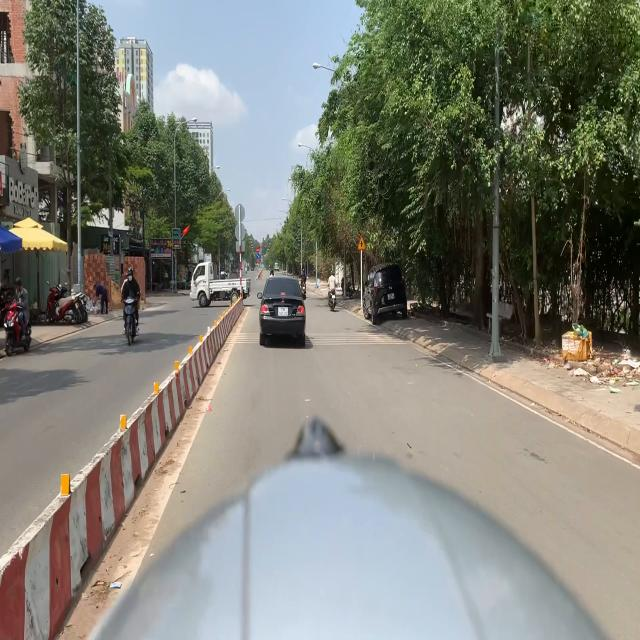Cam nguoc chieu: (256, 247, 260, 252)
Giao voi duong khong uu tien: (357, 235, 366, 251)
Hieu lenh: (256, 253, 260, 259)
